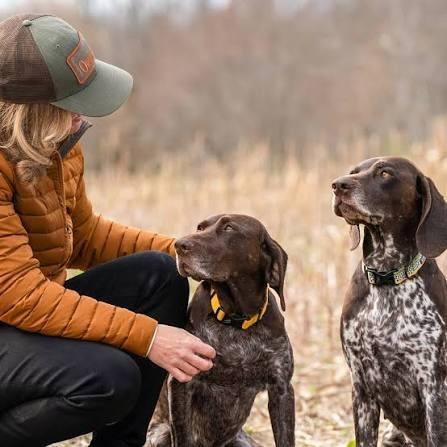adult_dog: (148, 212, 296, 447), (331, 157, 447, 447)
non-dog: (0, 13, 216, 447)
